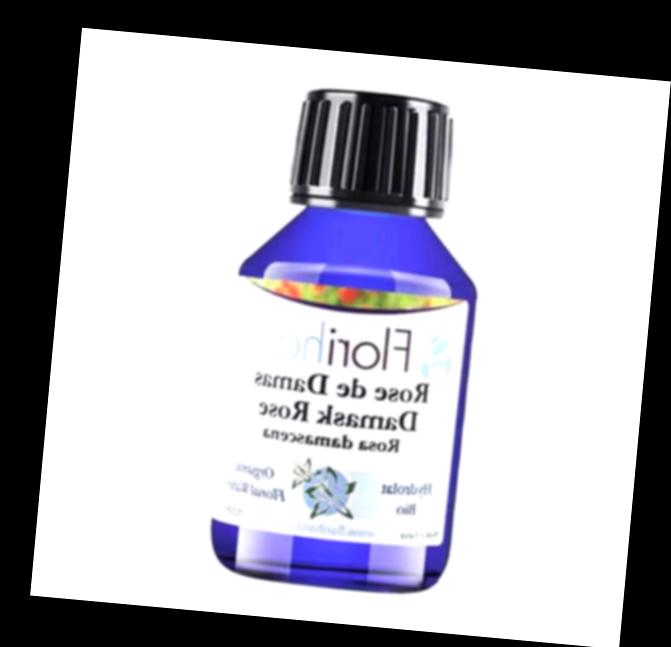cosmetic: (205, 78, 498, 596)
